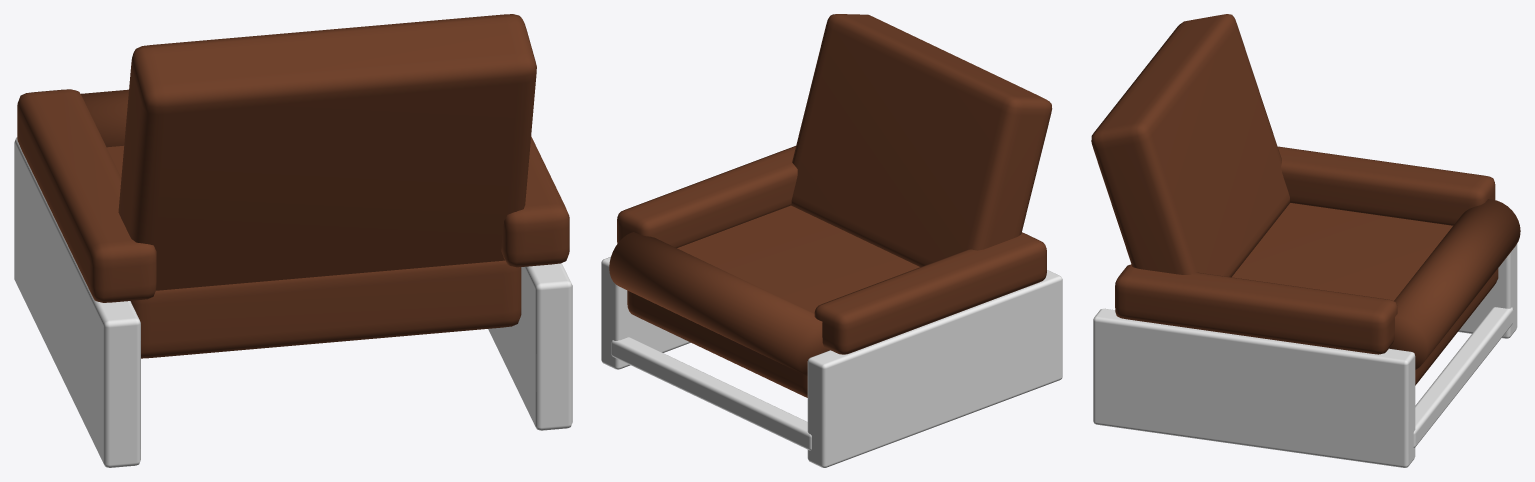
File: ref_Poltrona.glb
3 renders of one model, left to right at view 1: azimuth 30°, elevation 25°; view 2: azimuth 150°, elevation 25°; view 3: azimuth 270°, elevation 25°, orthographic. The views are drawn at different scales.
Parts seen in each view (by area): view 1: Poltrona_Encosto, Poltrona_Assento, Poltrona_Lateral.001, Poltrona_Braco.001, Poltrona_Lateral, Poltrona_Braco, Poltrona_Rolo; view 2: Poltrona_Encosto, Poltrona_Lateral.001, Poltrona_Assento, Poltrona_Rolo, Poltrona_Braco.001, Poltrona_Braco, Poltrona_Travessa, Poltrona_Lateral; view 3: Poltrona_Encosto, Poltrona_Lateral, Poltrona_Braco, Poltrona_Assento, Poltrona_Braco.001, Poltrona_Rolo, Poltrona_Travessa, Poltrona_Lateral.001.
Part boxes in pixels (x1,y1,x2,y2): Poltrona_Encosto: (118, 14, 536, 290); Poltrona_Assento: (106, 146, 521, 358); Poltrona_Lateral.001: (14, 137, 140, 467); Poltrona_Braco.001: (17, 89, 156, 302); Poltrona_Lateral: (488, 263, 572, 430); Poltrona_Braco: (501, 136, 569, 267); Poltrona_Rolo: (81, 89, 128, 147); Poltrona_Encosto: (791, 14, 1052, 266); Poltrona_Lateral.001: (807, 270, 1062, 467); Poltrona_Assento: (627, 205, 919, 397); Poltrona_Rolo: (609, 232, 829, 375); Poltrona_Braco.001: (814, 232, 1046, 354); Poltrona_Braco: (617, 146, 797, 247); Poltrona_Travessa: (611, 337, 811, 450); Poltrona_Lateral: (601, 257, 690, 369); Poltrona_Encosto: (1091, 14, 1290, 277); Poltrona_Lateral: (1093, 308, 1415, 467); Poltrona_Braco: (1115, 264, 1397, 354); Poltrona_Assento: (1232, 203, 1498, 385); Poltrona_Braco.001: (1278, 146, 1495, 225); Poltrona_Rolo: (1389, 199, 1520, 369); Poltrona_Travessa: (1413, 307, 1513, 447); Poltrona_Lateral.001: (1458, 244, 1517, 338).
Size of the model in its own units: 1.24 by 0.9146 by 1.22.
